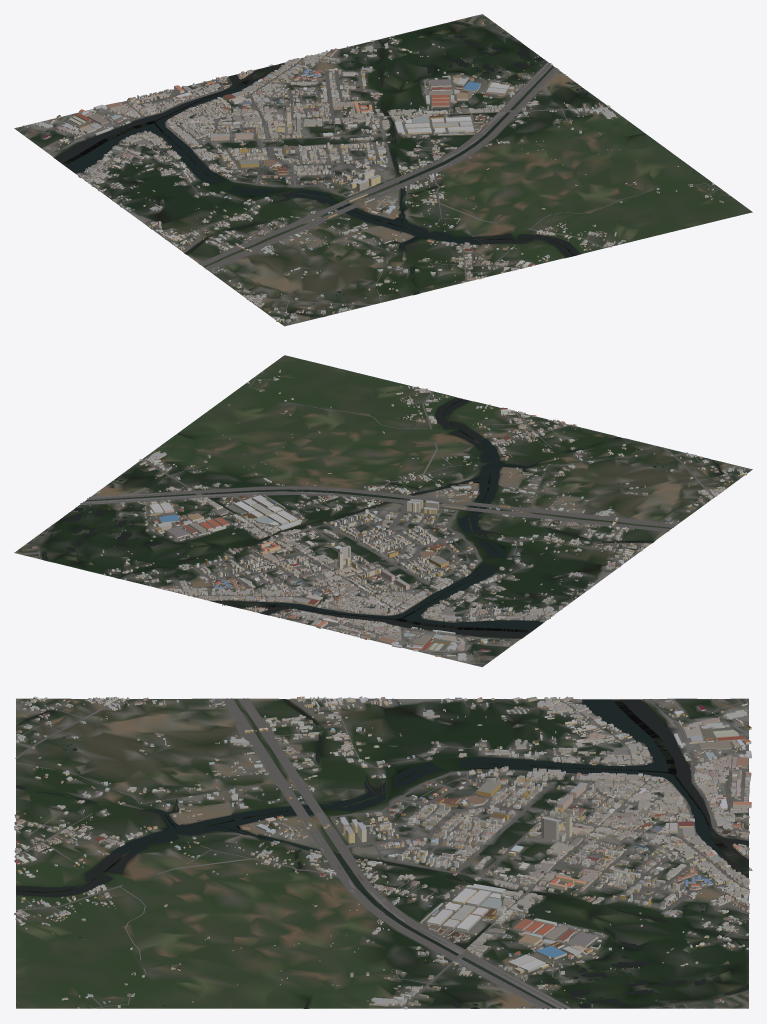
3 views of the same model, one above another, from view 1: azimuth 30°, elevation 25°; view 2: azimuth 150°, elevation 25°; view 3: azimuth 270°, elevation 25° (orthographic). The views are drawn at different scales.
Parts seen in each view (by area): view 1: ground, buildings, roads, water; view 2: ground, buildings, roads, water; view 3: ground, buildings, water, roads.
Part boxes in pixels (left/top/right/bottom): ground: left=14, top=14, right=752, bottom=326; buildings: left=23, top=17, right=729, bottom=323; roads: left=15, top=16, right=724, bottom=325; water: left=55, top=21, right=694, bottom=316; ground: left=14, top=355, right=752, bottom=667; buildings: left=22, top=369, right=746, bottom=663; roads: left=19, top=375, right=750, bottom=666; water: left=42, top=397, right=722, bottom=637; ground: left=16, top=698, right=748, bottom=1008; buildings: left=14, top=696, right=751, bottom=1009; water: left=16, top=699, right=752, bottom=1008; roads: left=15, top=698, right=749, bottom=1009.
Bounding box in the file's own units: 2817 × 89.8 × 2824.
